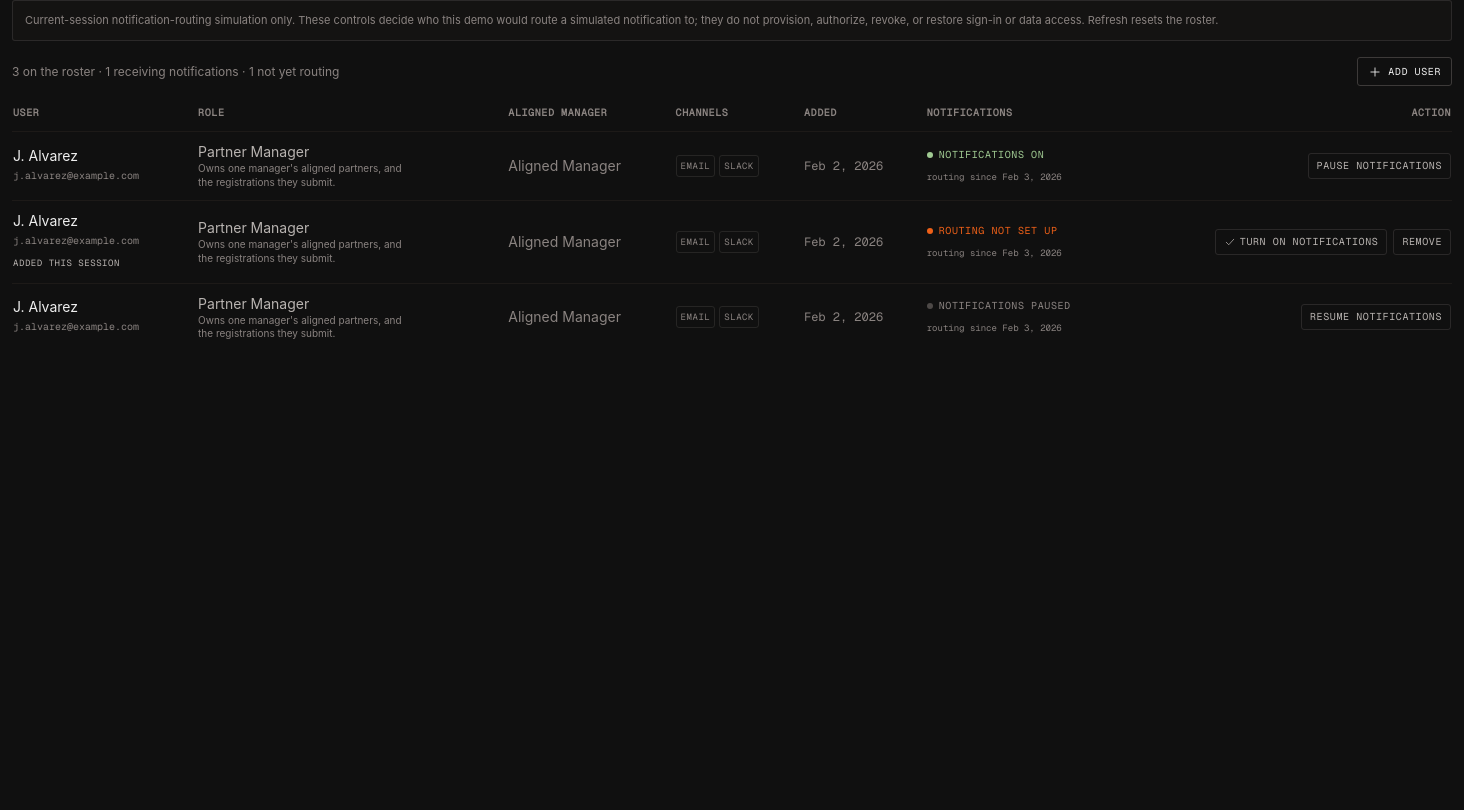
Scenario: VAL-A11Y-005 team roster disclosures › DS-038 successful addition closes the form and returns to its invoker
Step 1. Click the button "Add user" → point(1405, 72), box [1357,57,1452,86]
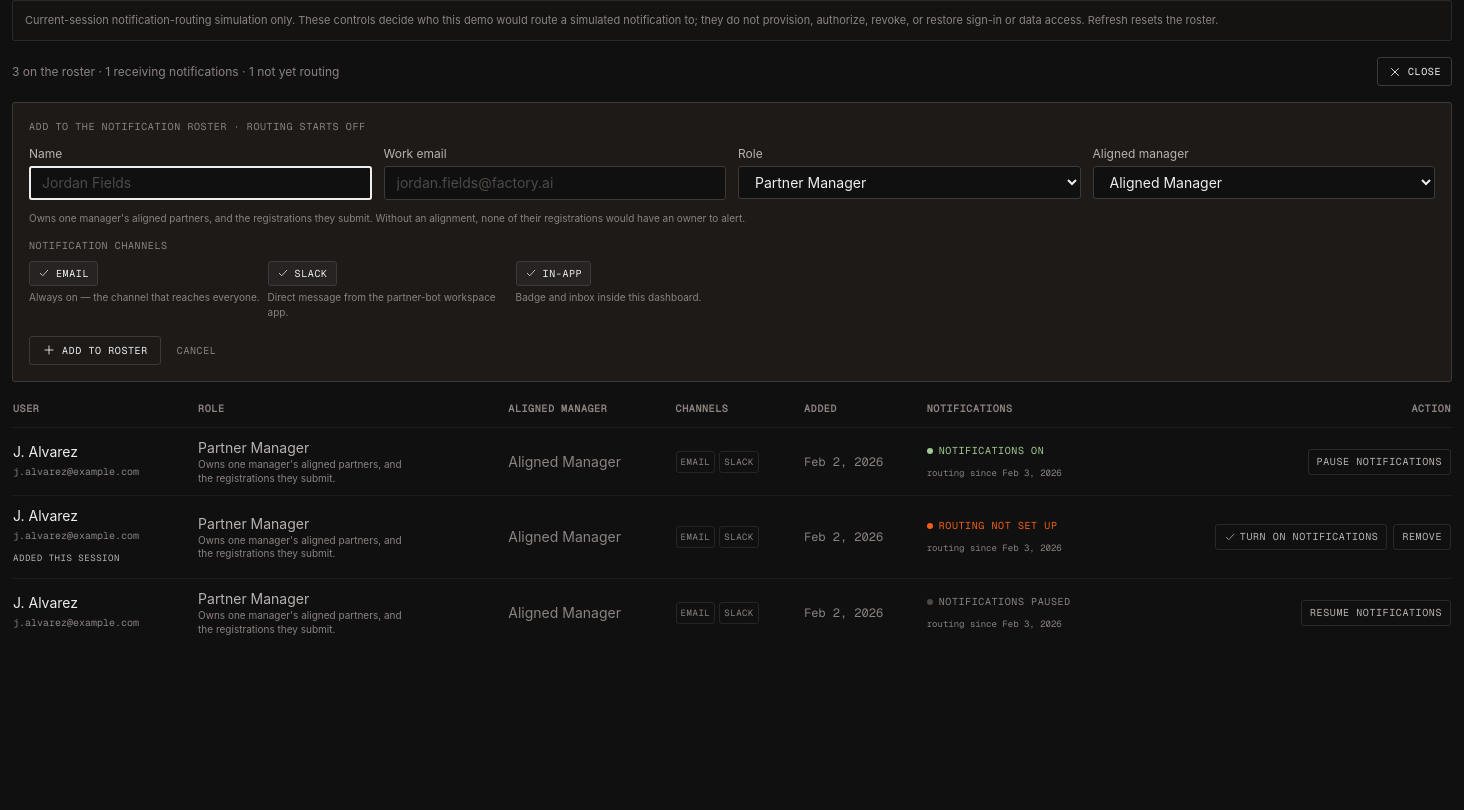
Step 2. Type "New Person" into the field labelled "Name" → point(200, 183), box [29,166,372,200]
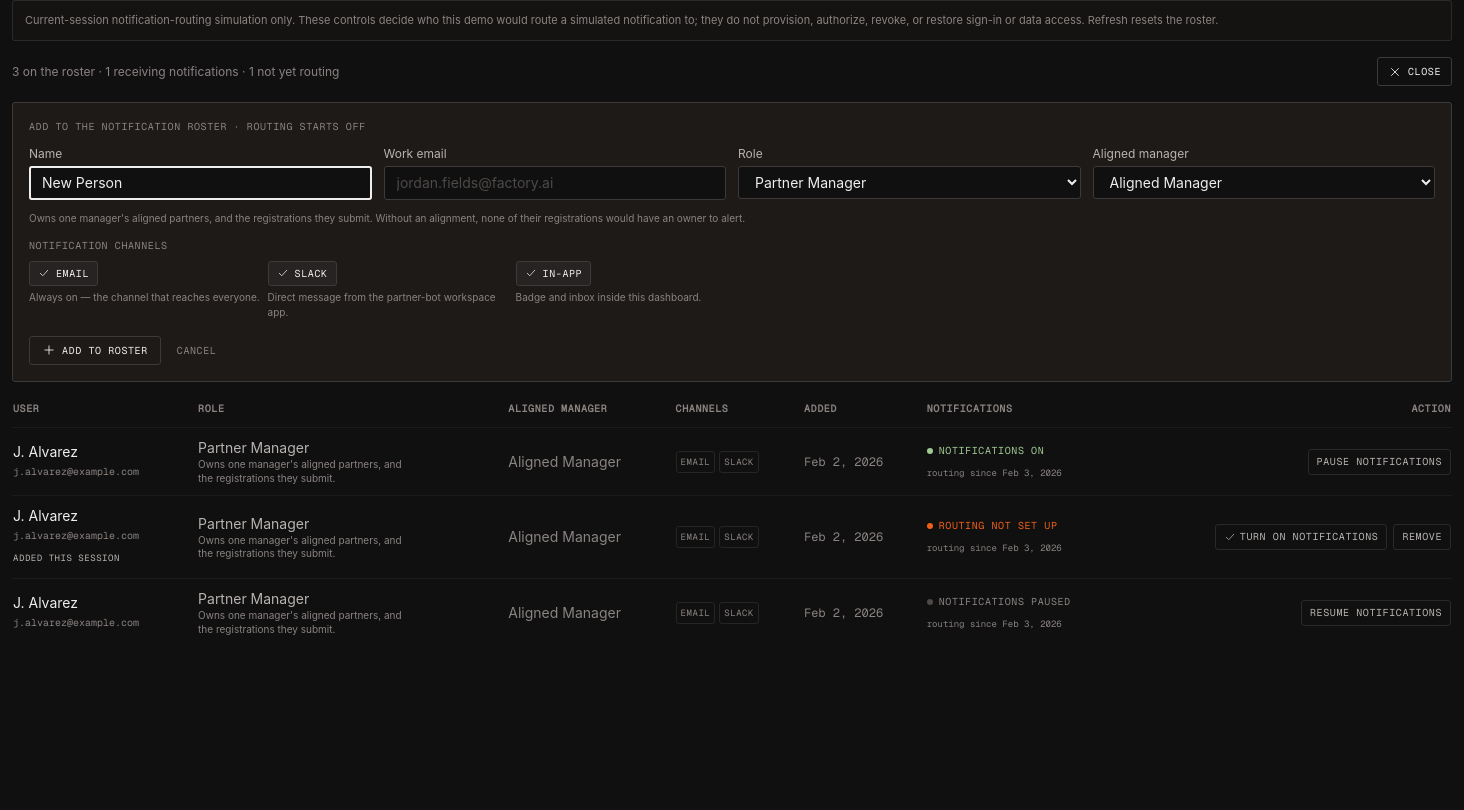
Step 3. Type "new@example.com" into the field labelled "Work email" → point(555, 183), box [384,166,726,200]
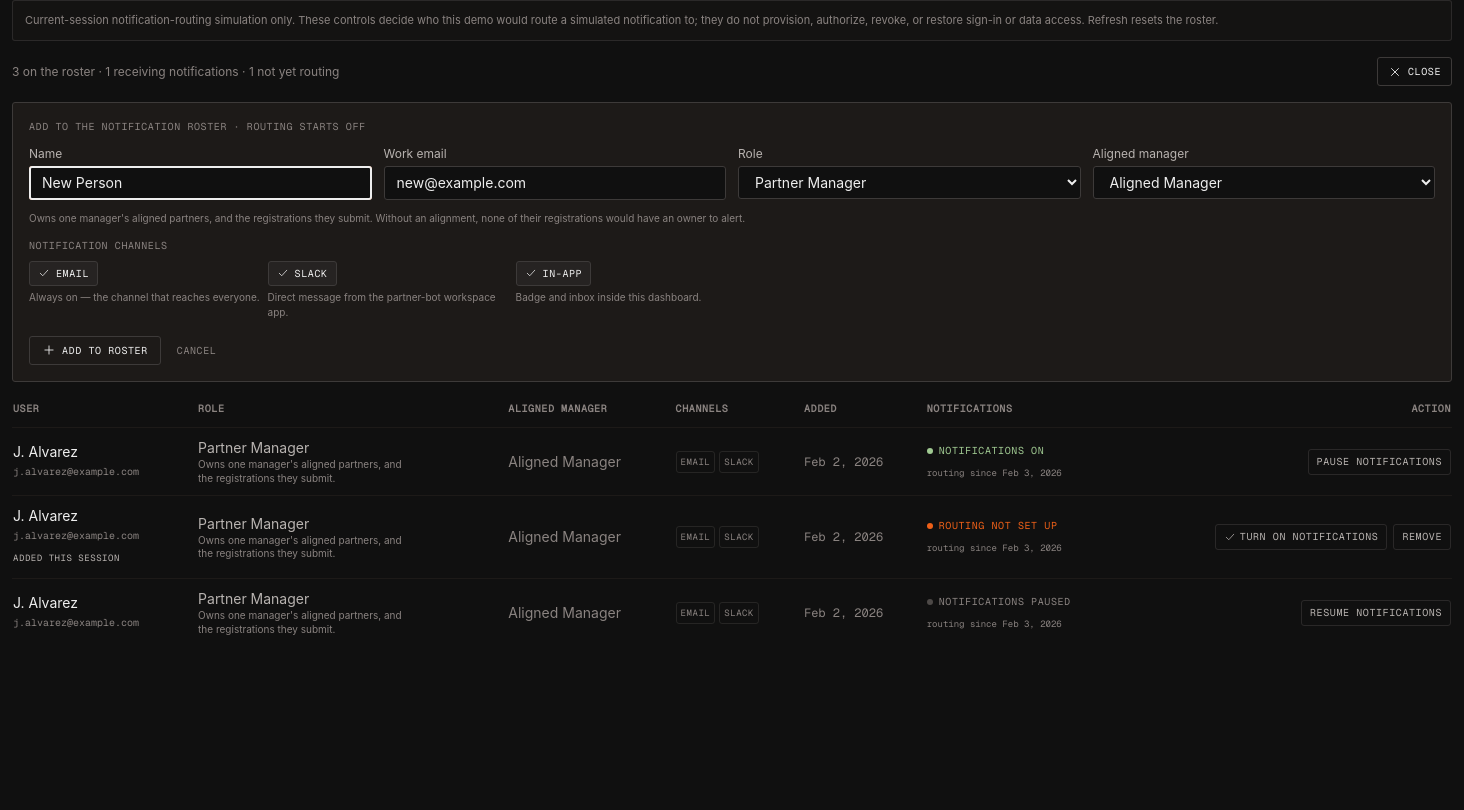
Step 4. Click the button "Add to roster" → point(95, 350), box [29,336,161,365]
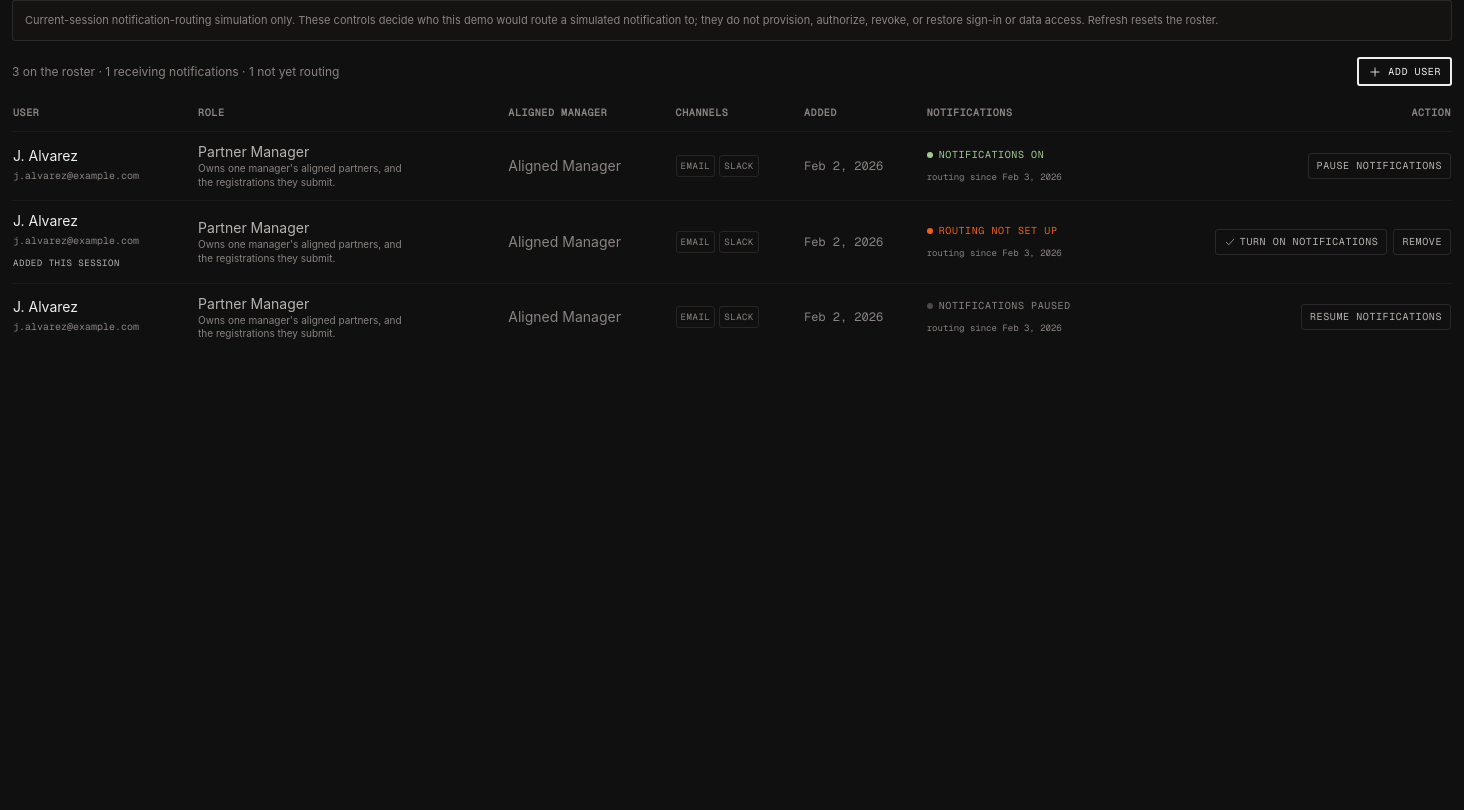
Check: the button "Add user" is collapsed, box [1357,57,1452,86]
